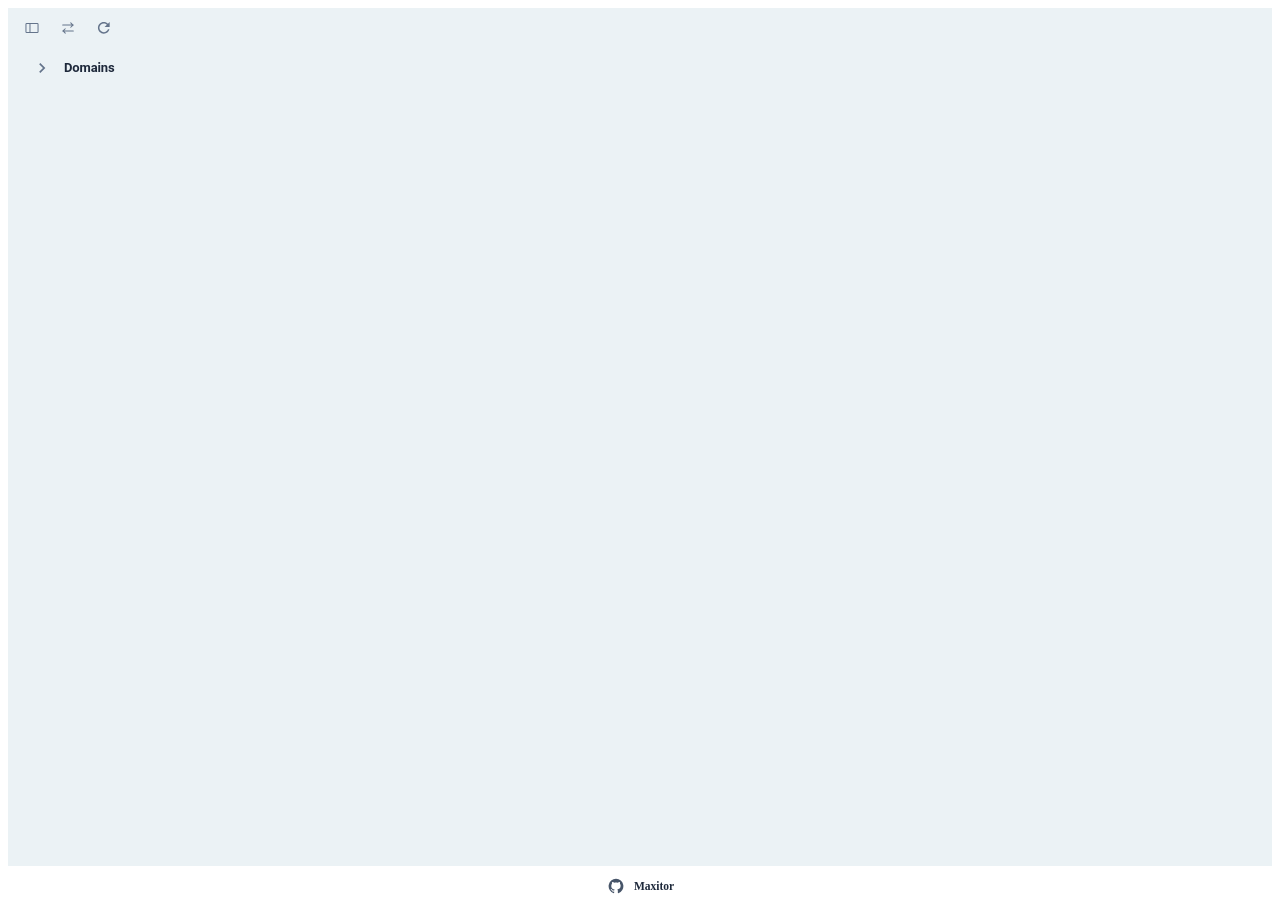
Test case: an empty domain (spec 041, FR-027a) › stays in the panel, dim, and a domain with diagrams is not dim
Click the button "Domains" at coordinates (73, 68), box [32, 58, 114, 78]
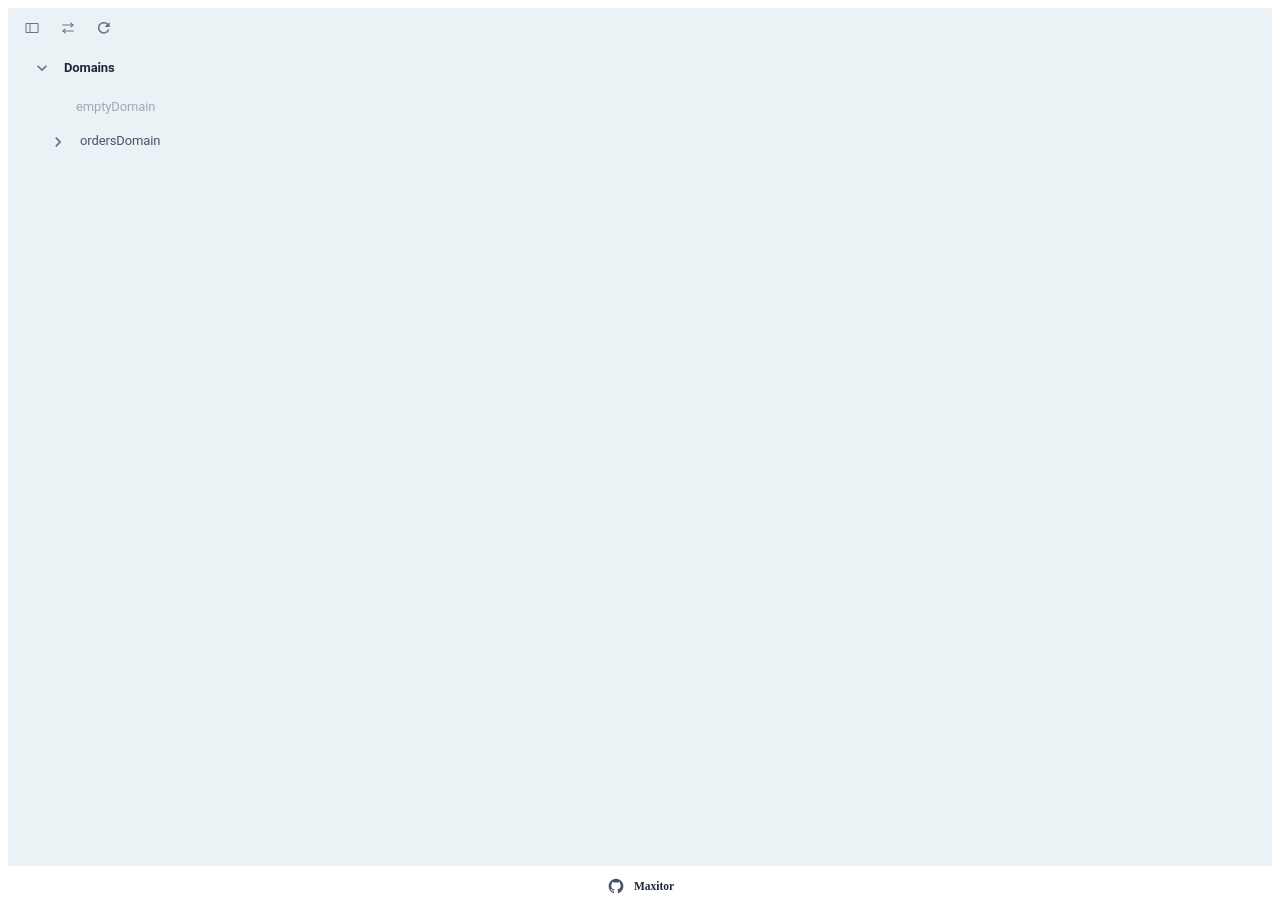
Expected: the elements with test id "empty-row" read "emptyDomain", in this order, [76, 99, 155, 114]
